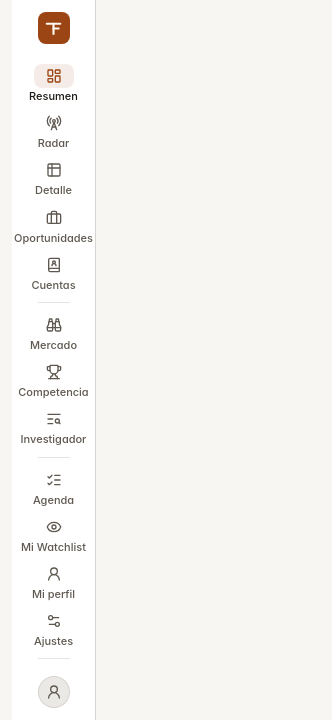
Scenario: ConsoleRail › nombra el rol de la organización en castellano
This screenshot has width=332, height=720.
Press the mouse on the button named "Menú de cuenta" at [54, 692], box top-left (38, 676), bottom-right (70, 708)
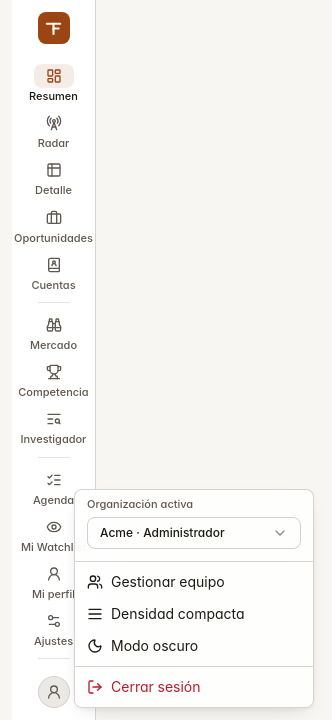
expect the dropdown named "Organización activa" reads "Acme · Administrador": met, box top-left (87, 517), bottom-right (301, 549)
